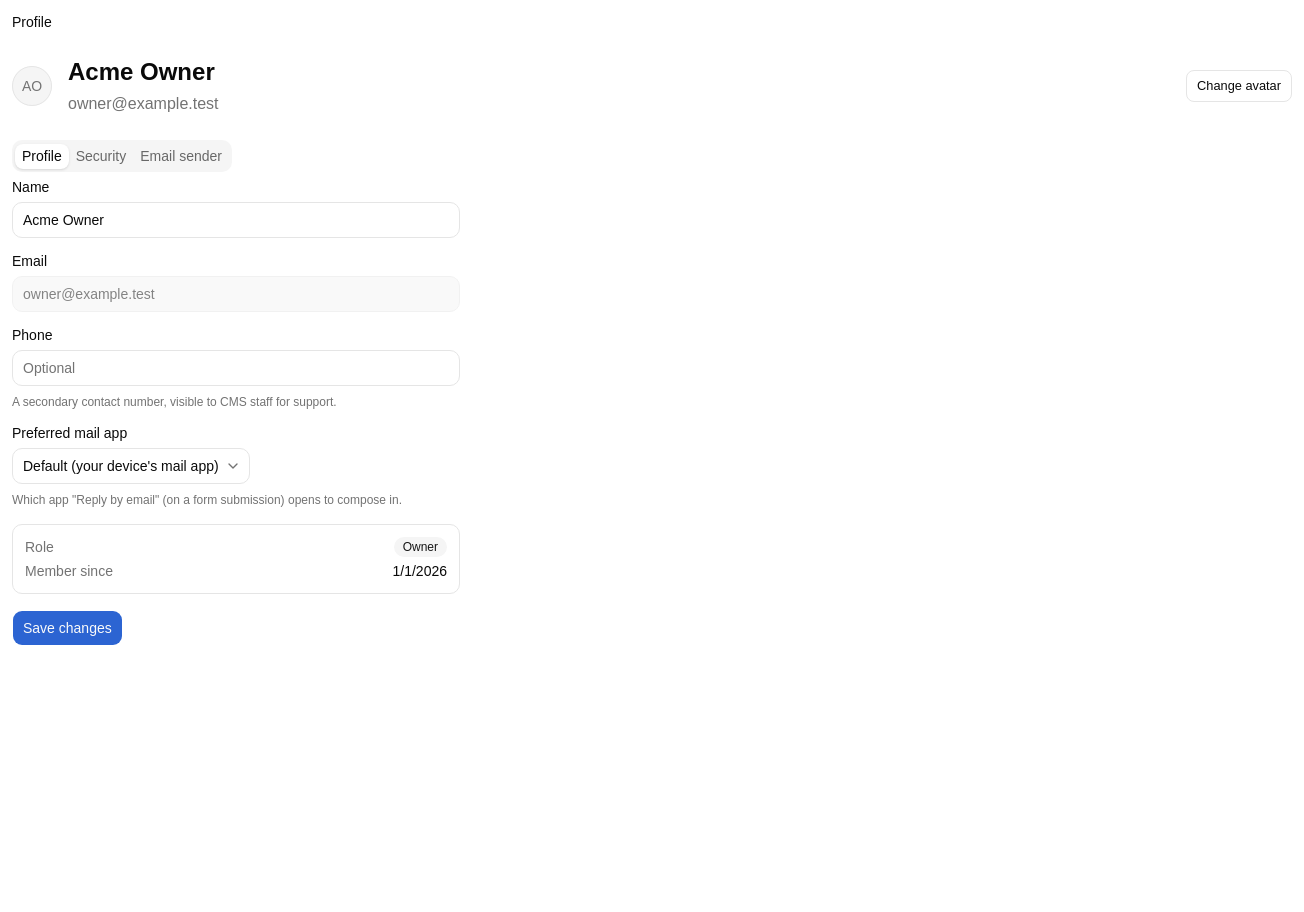
Test case: ProfilePage › shows owner-only recovery codes and transfer-ownership controls for the owner, linking to Users instead of duplicating it
Click the tab "Security" at x=101, y=156, box [69,144,133,168]
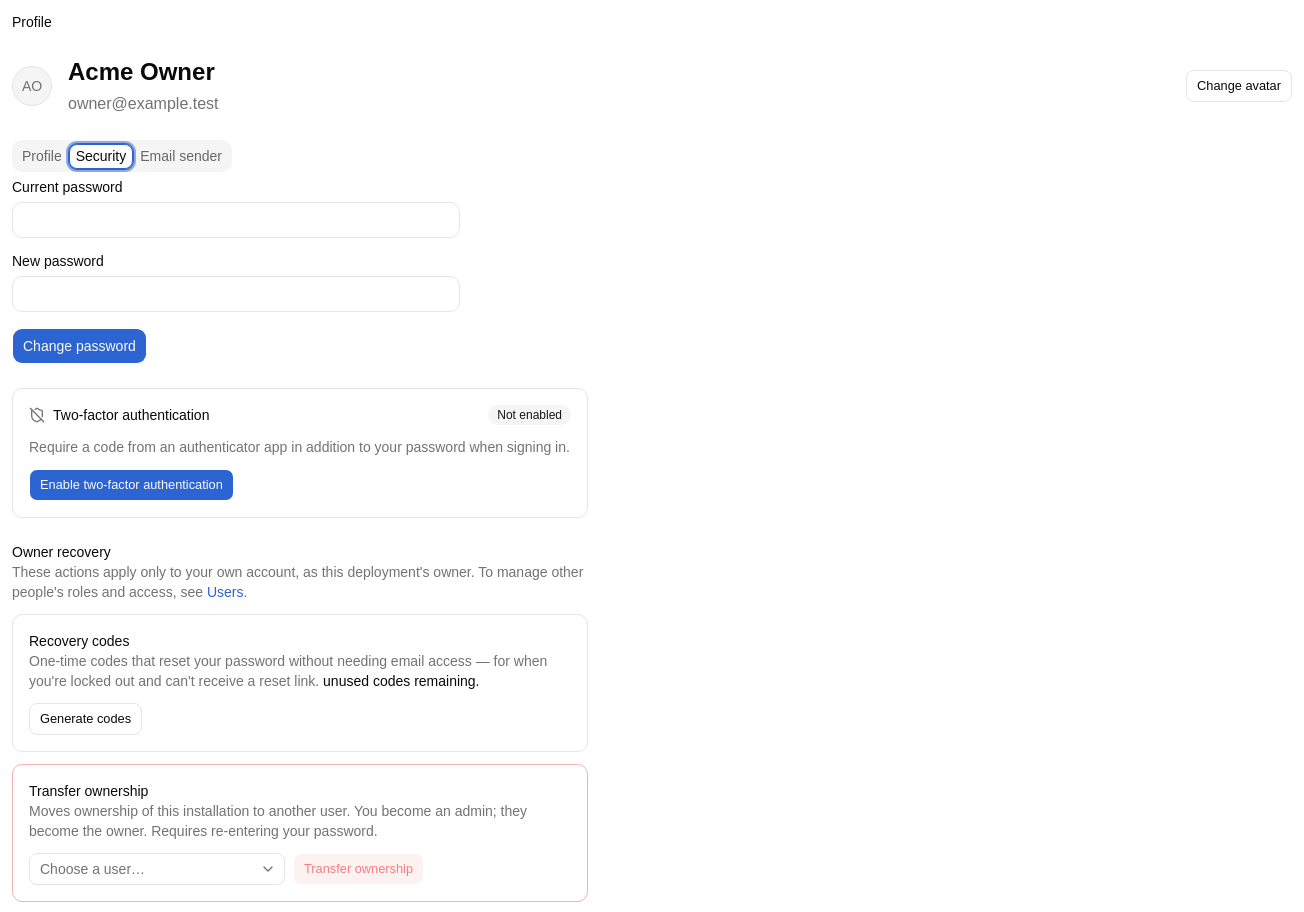
Expected: the text "Recovery codes" is shown, [29,633,129,649]
Expected: the text "Transfer ownership" is shown, [29,783,148,799]
